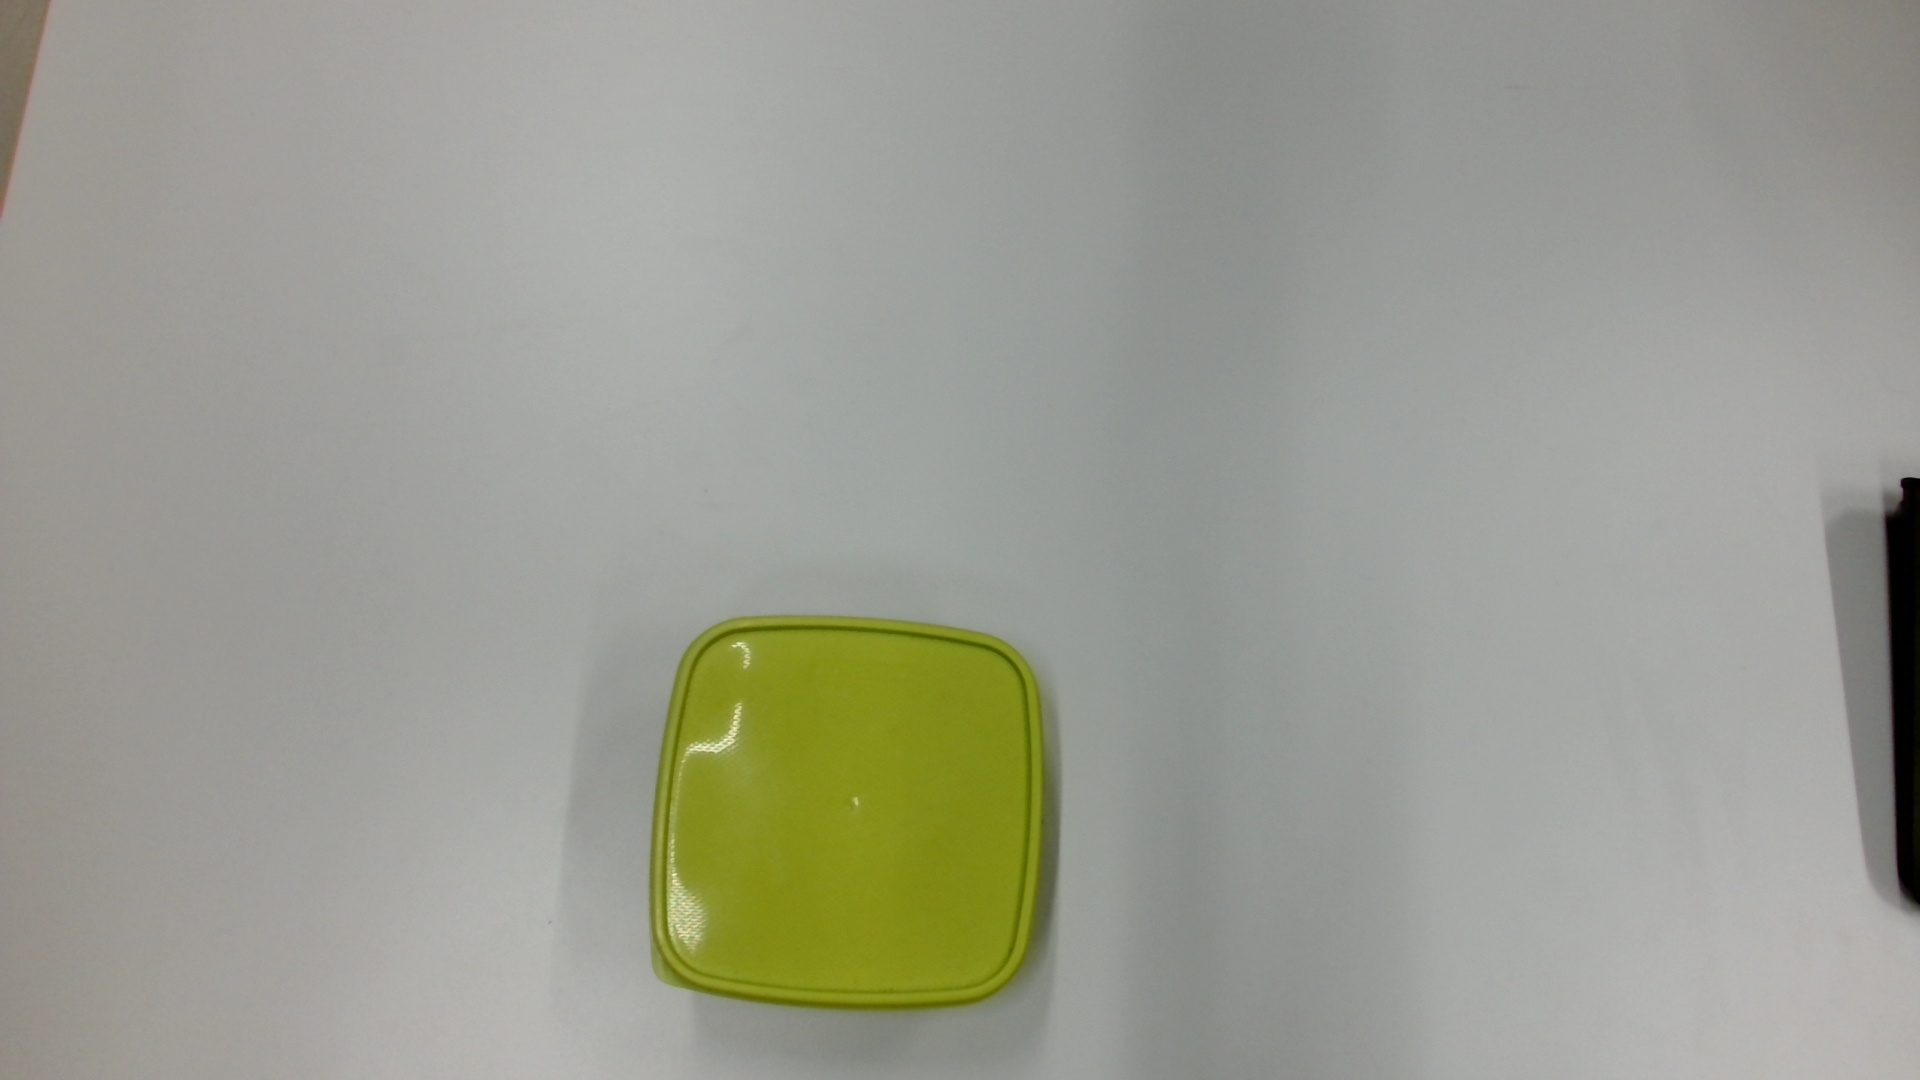Box: (637, 605, 1054, 1017)
